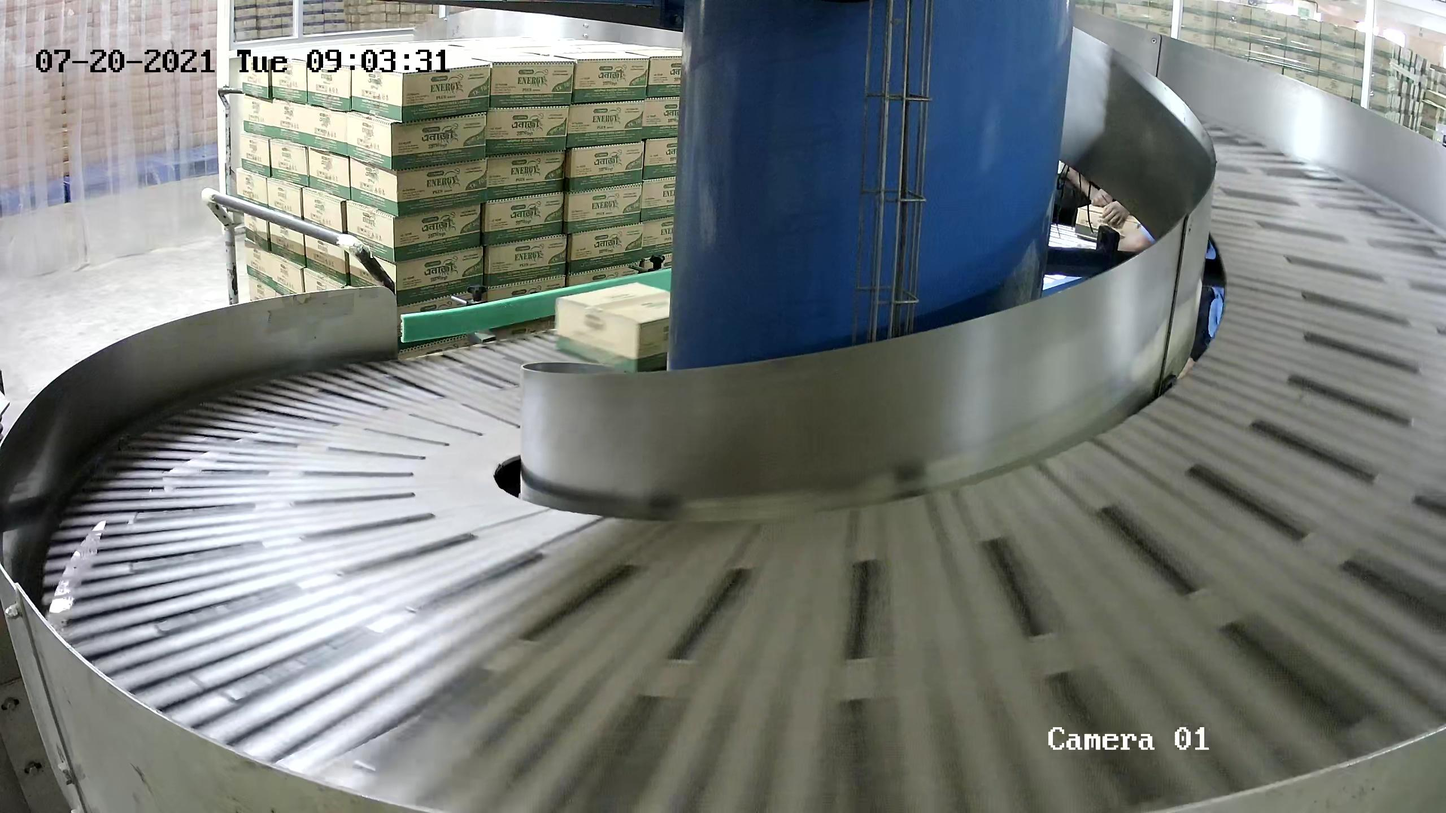Box: (555, 281, 670, 372)
